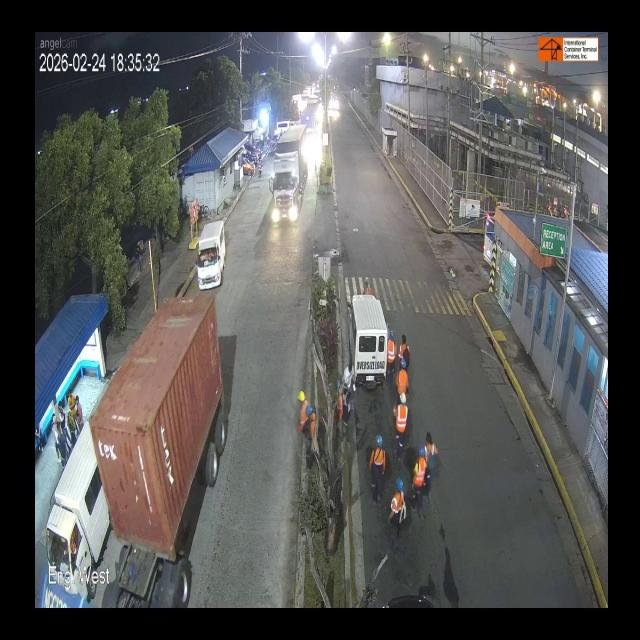car: (346, 298, 390, 381), (196, 211, 228, 296)
truck: (89, 311, 239, 615), (270, 118, 310, 238)
